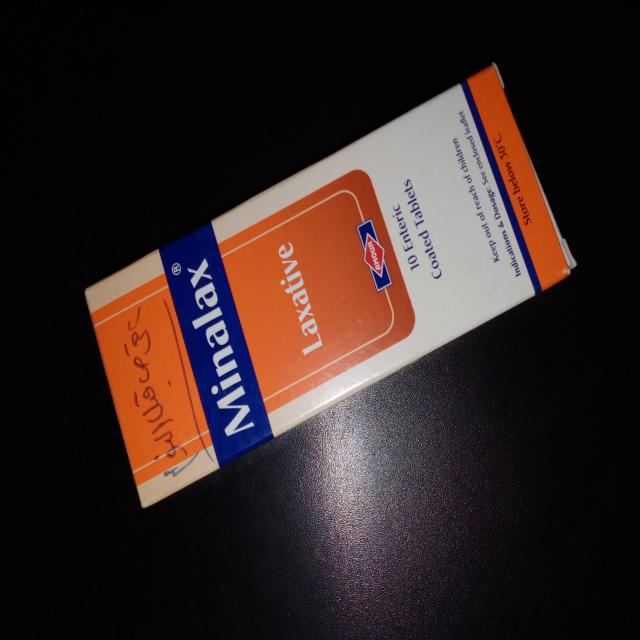Medicine: (84, 59, 576, 514)
